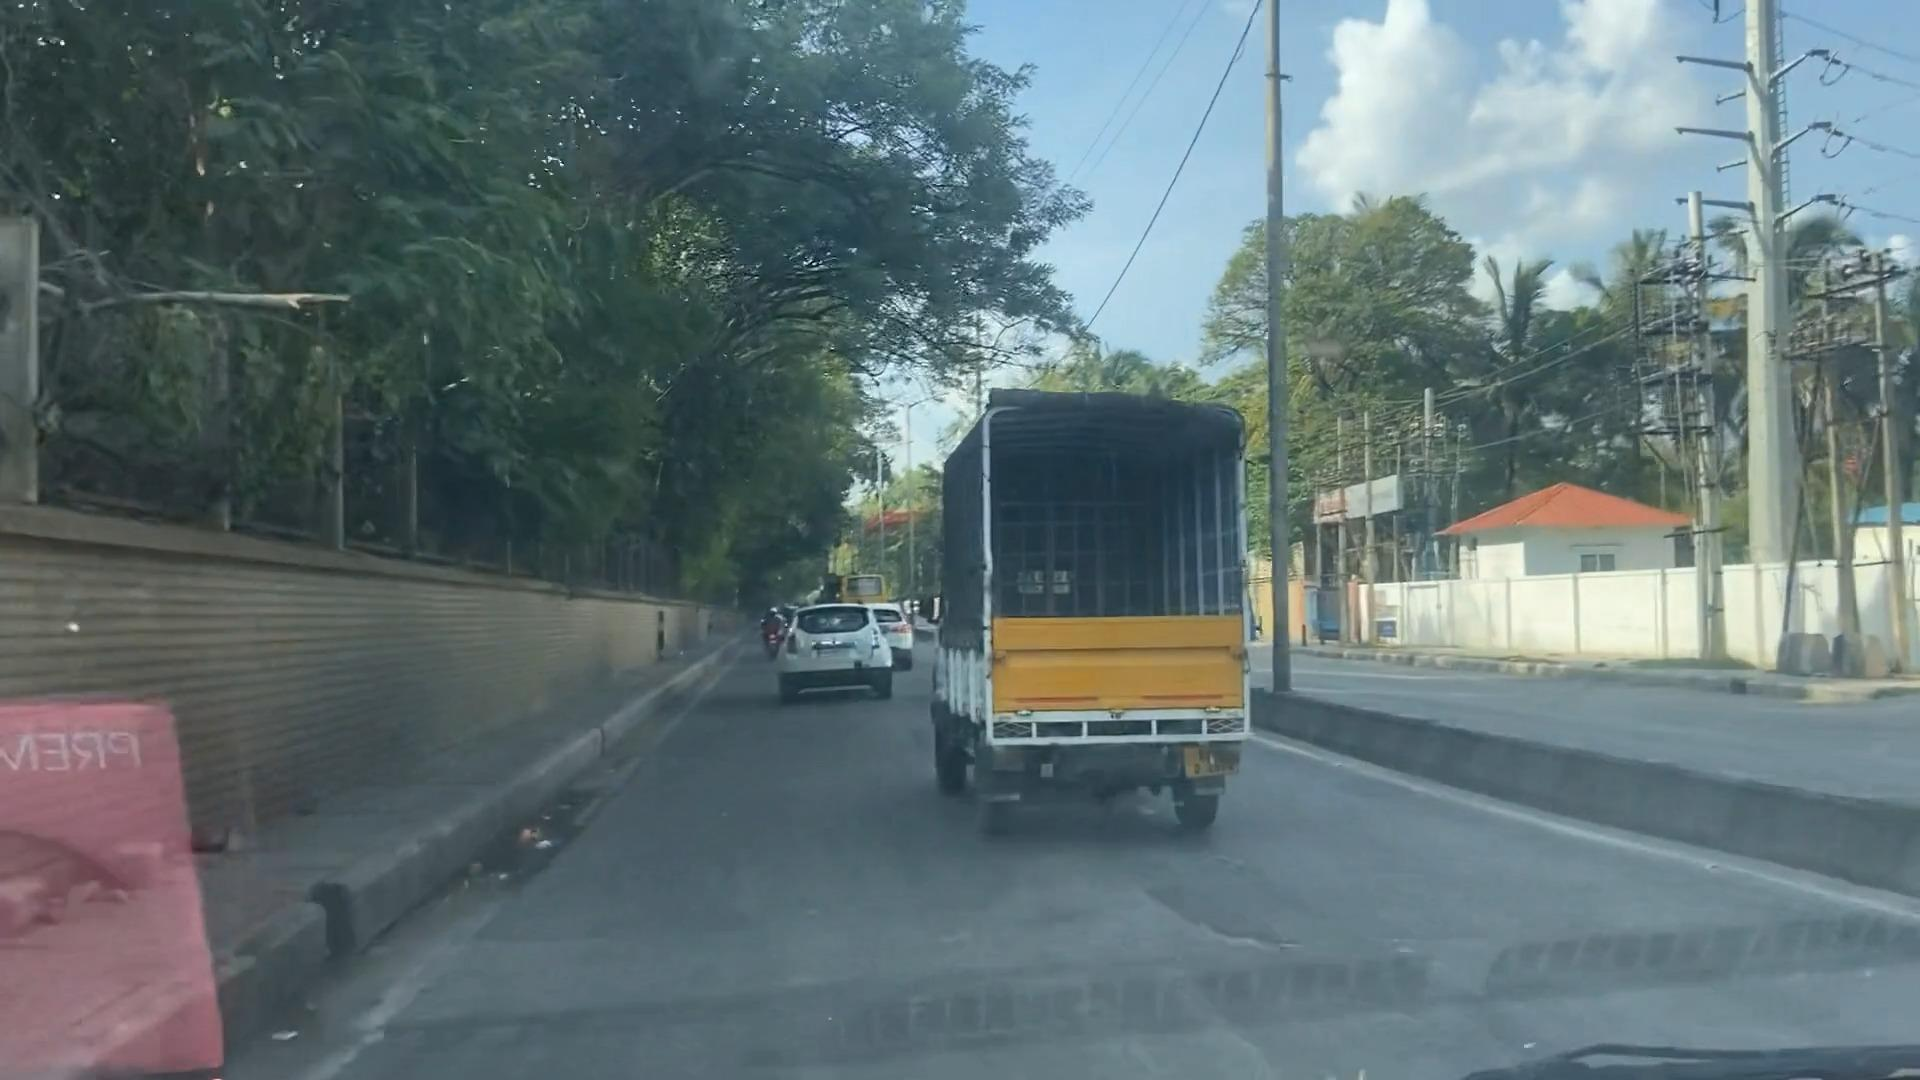HMV: (936, 392, 1237, 825)
LMV: (780, 608, 893, 693)
RoadDamages: (1086, 852, 1343, 992)
